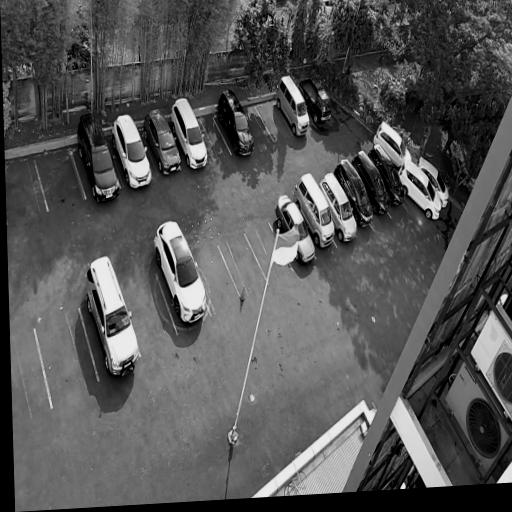Car: (78, 249, 143, 382), (150, 213, 210, 328), (72, 108, 124, 204), (107, 108, 156, 192), (271, 188, 319, 268), (290, 169, 337, 249), (167, 93, 213, 172), (139, 101, 185, 175), (317, 170, 362, 244), (212, 84, 256, 158), (349, 146, 394, 217), (332, 155, 375, 229), (398, 159, 443, 222), (367, 143, 407, 208), (271, 73, 311, 138), (373, 119, 412, 170), (297, 71, 333, 126), (416, 155, 449, 208)
Space Available: (35, 308, 99, 407), (121, 273, 176, 351), (10, 327, 51, 425), (35, 149, 85, 210), (245, 221, 293, 283), (218, 234, 266, 295), (194, 246, 239, 309), (5, 160, 47, 224), (255, 99, 293, 141), (197, 116, 231, 159), (243, 106, 273, 146)
